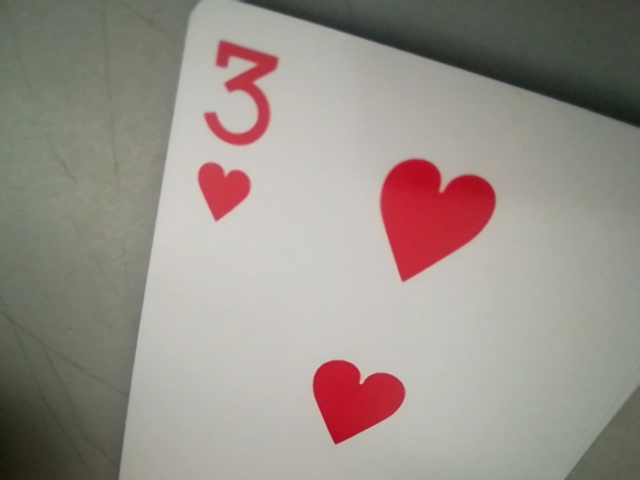hx 3: (191, 26, 277, 224)
